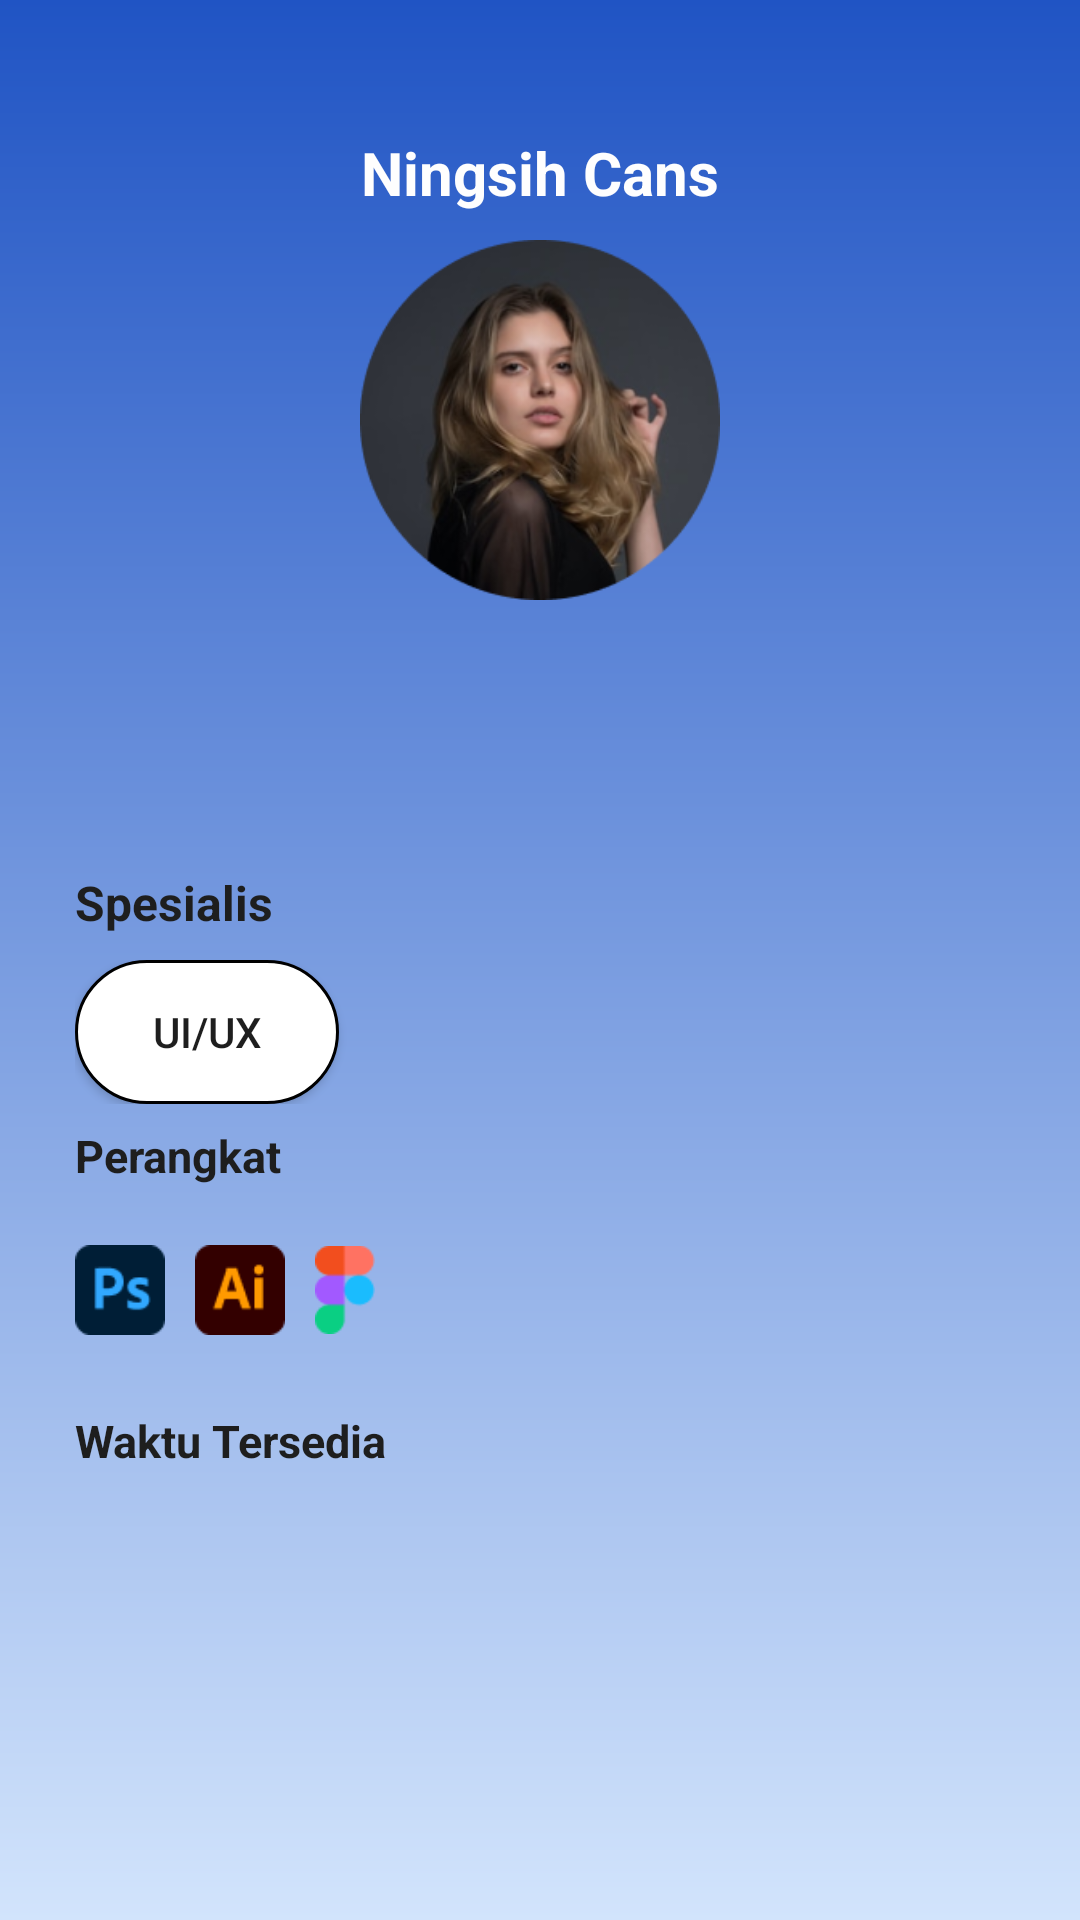

Locate icon controls on the screen. Image size 1080*1920, boxes as BBox(x1, y1, x2, y2).
foto mentor: BBox(360, 240, 720, 600)
